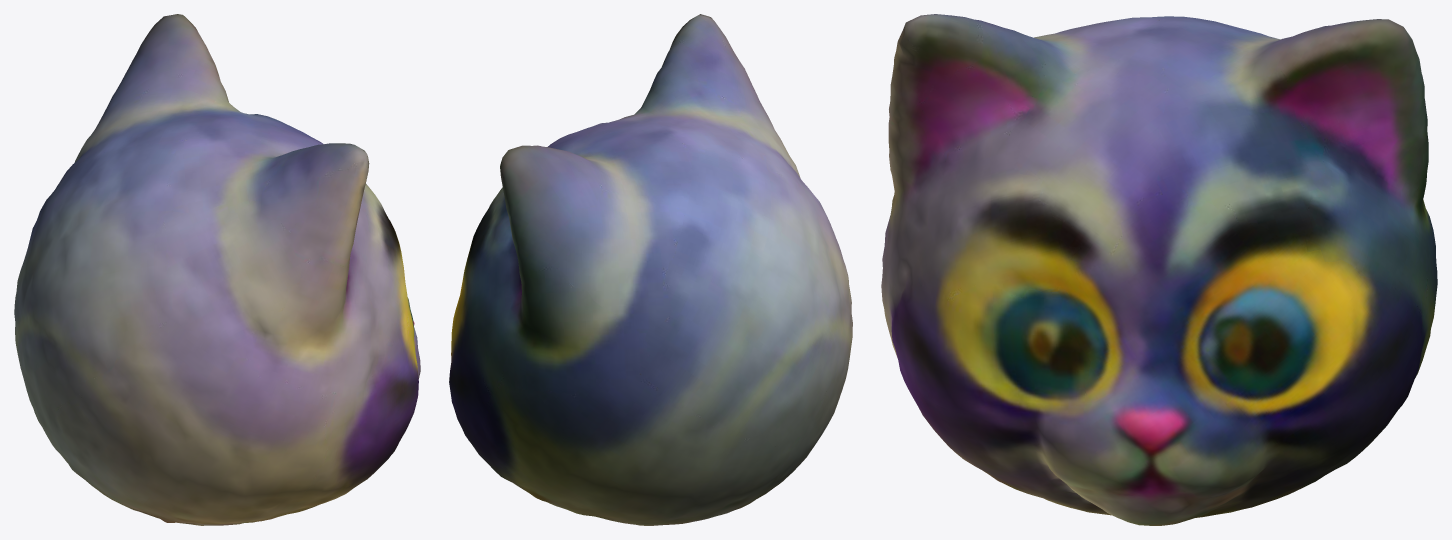
The model's file is Create_cat_with_Round_face_with_wide_set_eyes_a_slight_upwa_0614154732_preview.obj.
3 renders of one model, left to right at view 1: azimuth 30°, elevation 25°; view 2: azimuth 150°, elevation 25°; view 3: azimuth 270°, elevation 25°, orthographic. The views are drawn at different scales.
Visible parts, largest first — view 1: Mesh1; view 2: Mesh1; view 3: Mesh1.
Boxes of the visible parts, box(x1,y1,x2,y2) form: Mesh1: box(14, 14, 420, 525); Mesh1: box(449, 14, 852, 525); Mesh1: box(881, 14, 1437, 525).
Bounding box in the file's own units: 1.08 × 1.2 × 1.18.
1 material, 1 textured.
